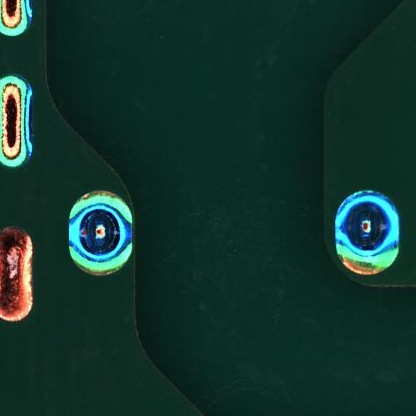spot: (332, 188, 401, 276), (68, 189, 134, 278)
